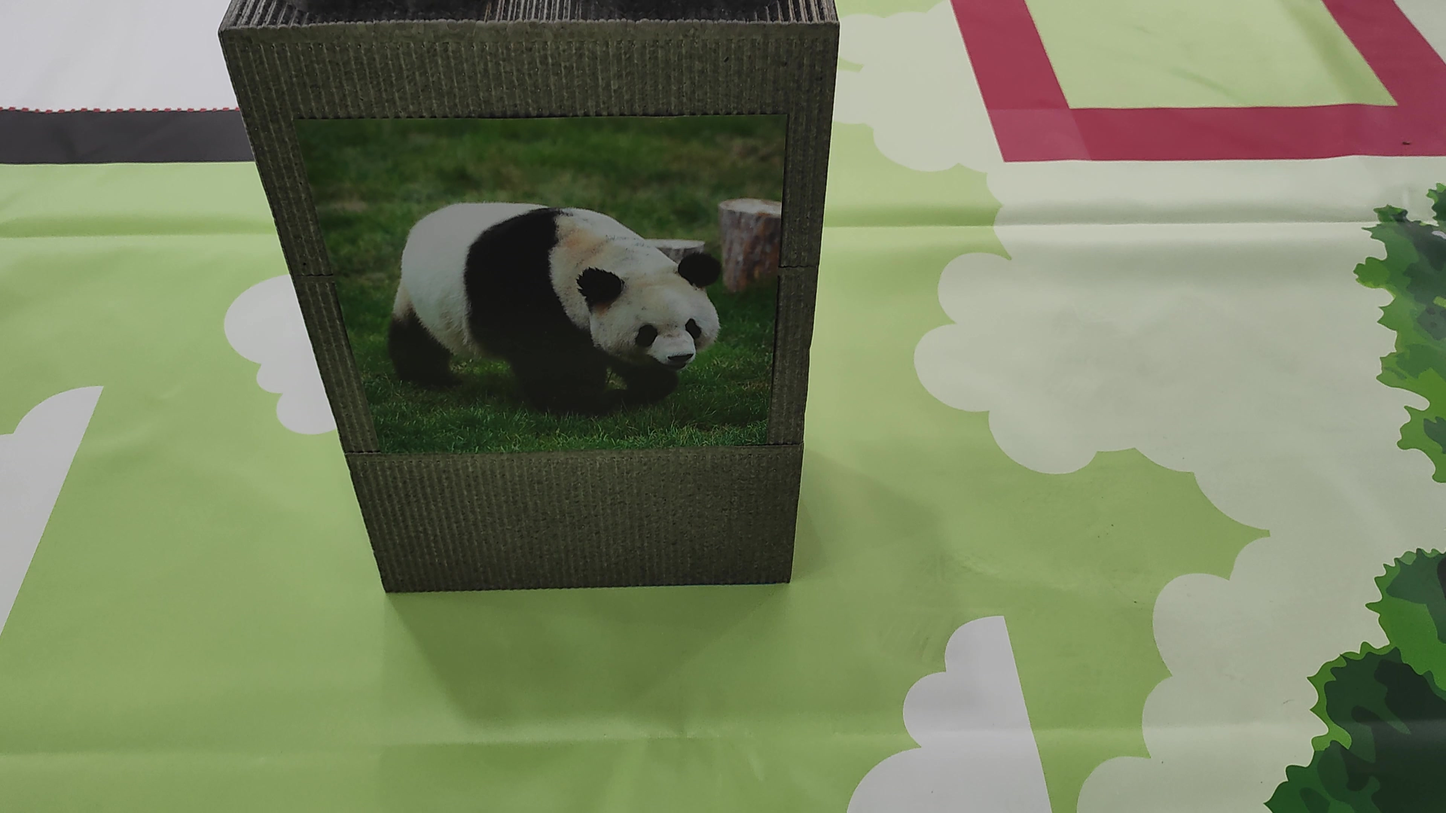panda: (348, 123, 745, 454)
